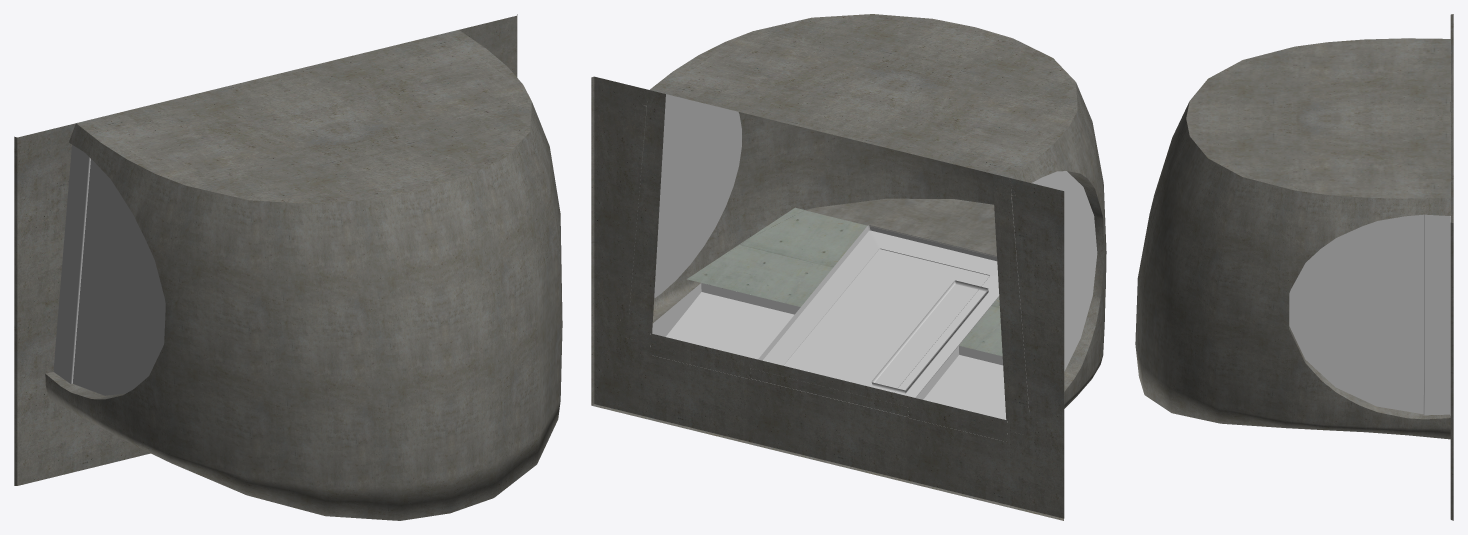
Rendered from nt_fallout_shelter_LOD1.obj.
The picture shows the model from 3 angles, left to right: view 1: azimuth 30°, elevation 25°; view 2: azimuth 150°, elevation 25°; view 3: azimuth 270°, elevation 25°; orthographic projection. The views are drawn at different scales.
Visible parts, largest first — view 1: concrete_base02_warm, mtl_nt_fallout_shelter_sign, mtl_nt_fallout_shelter_door; view 2: concrete_base02_warm, mtl_nt_fallout_shelter_sign, mtl_nt_fallout_shelter_door, nt_2020_concrete_formed; view 3: concrete_base02_warm, mtl_nt_fallout_shelter_sign, mtl_nt_fallout_shelter_door.
Boxes of the visible parts, <box> form: concrete_base02_warm: <box>14,14,562,520</box>; mtl_nt_fallout_shelter_sign: <box>73,159,165,395</box>; mtl_nt_fallout_shelter_door: <box>53,145,90,383</box>; concrete_base02_warm: <box>591,14,1106,520</box>; mtl_nt_fallout_shelter_sign: <box>650,94,1097,434</box>; mtl_nt_fallout_shelter_door: <box>629,101,1029,416</box>; nt_2020_concrete_formed: <box>687,207,1002,356</box>; concrete_base02_warm: <box>1135,14,1453,520</box>; mtl_nt_fallout_shelter_sign: <box>1289,214,1450,416</box>; mtl_nt_fallout_shelter_door: <box>1423,112,1450,415</box>.
Size of the model in its own units: 465 by 309 by 299.
